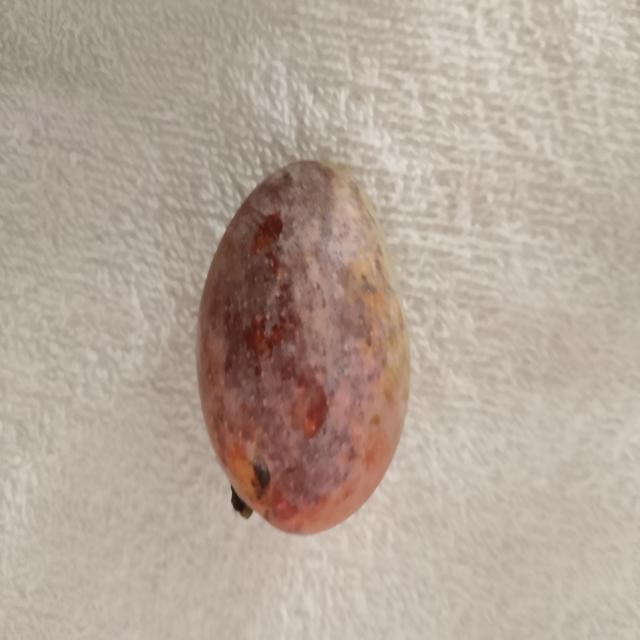mango: (193, 156, 415, 540)
